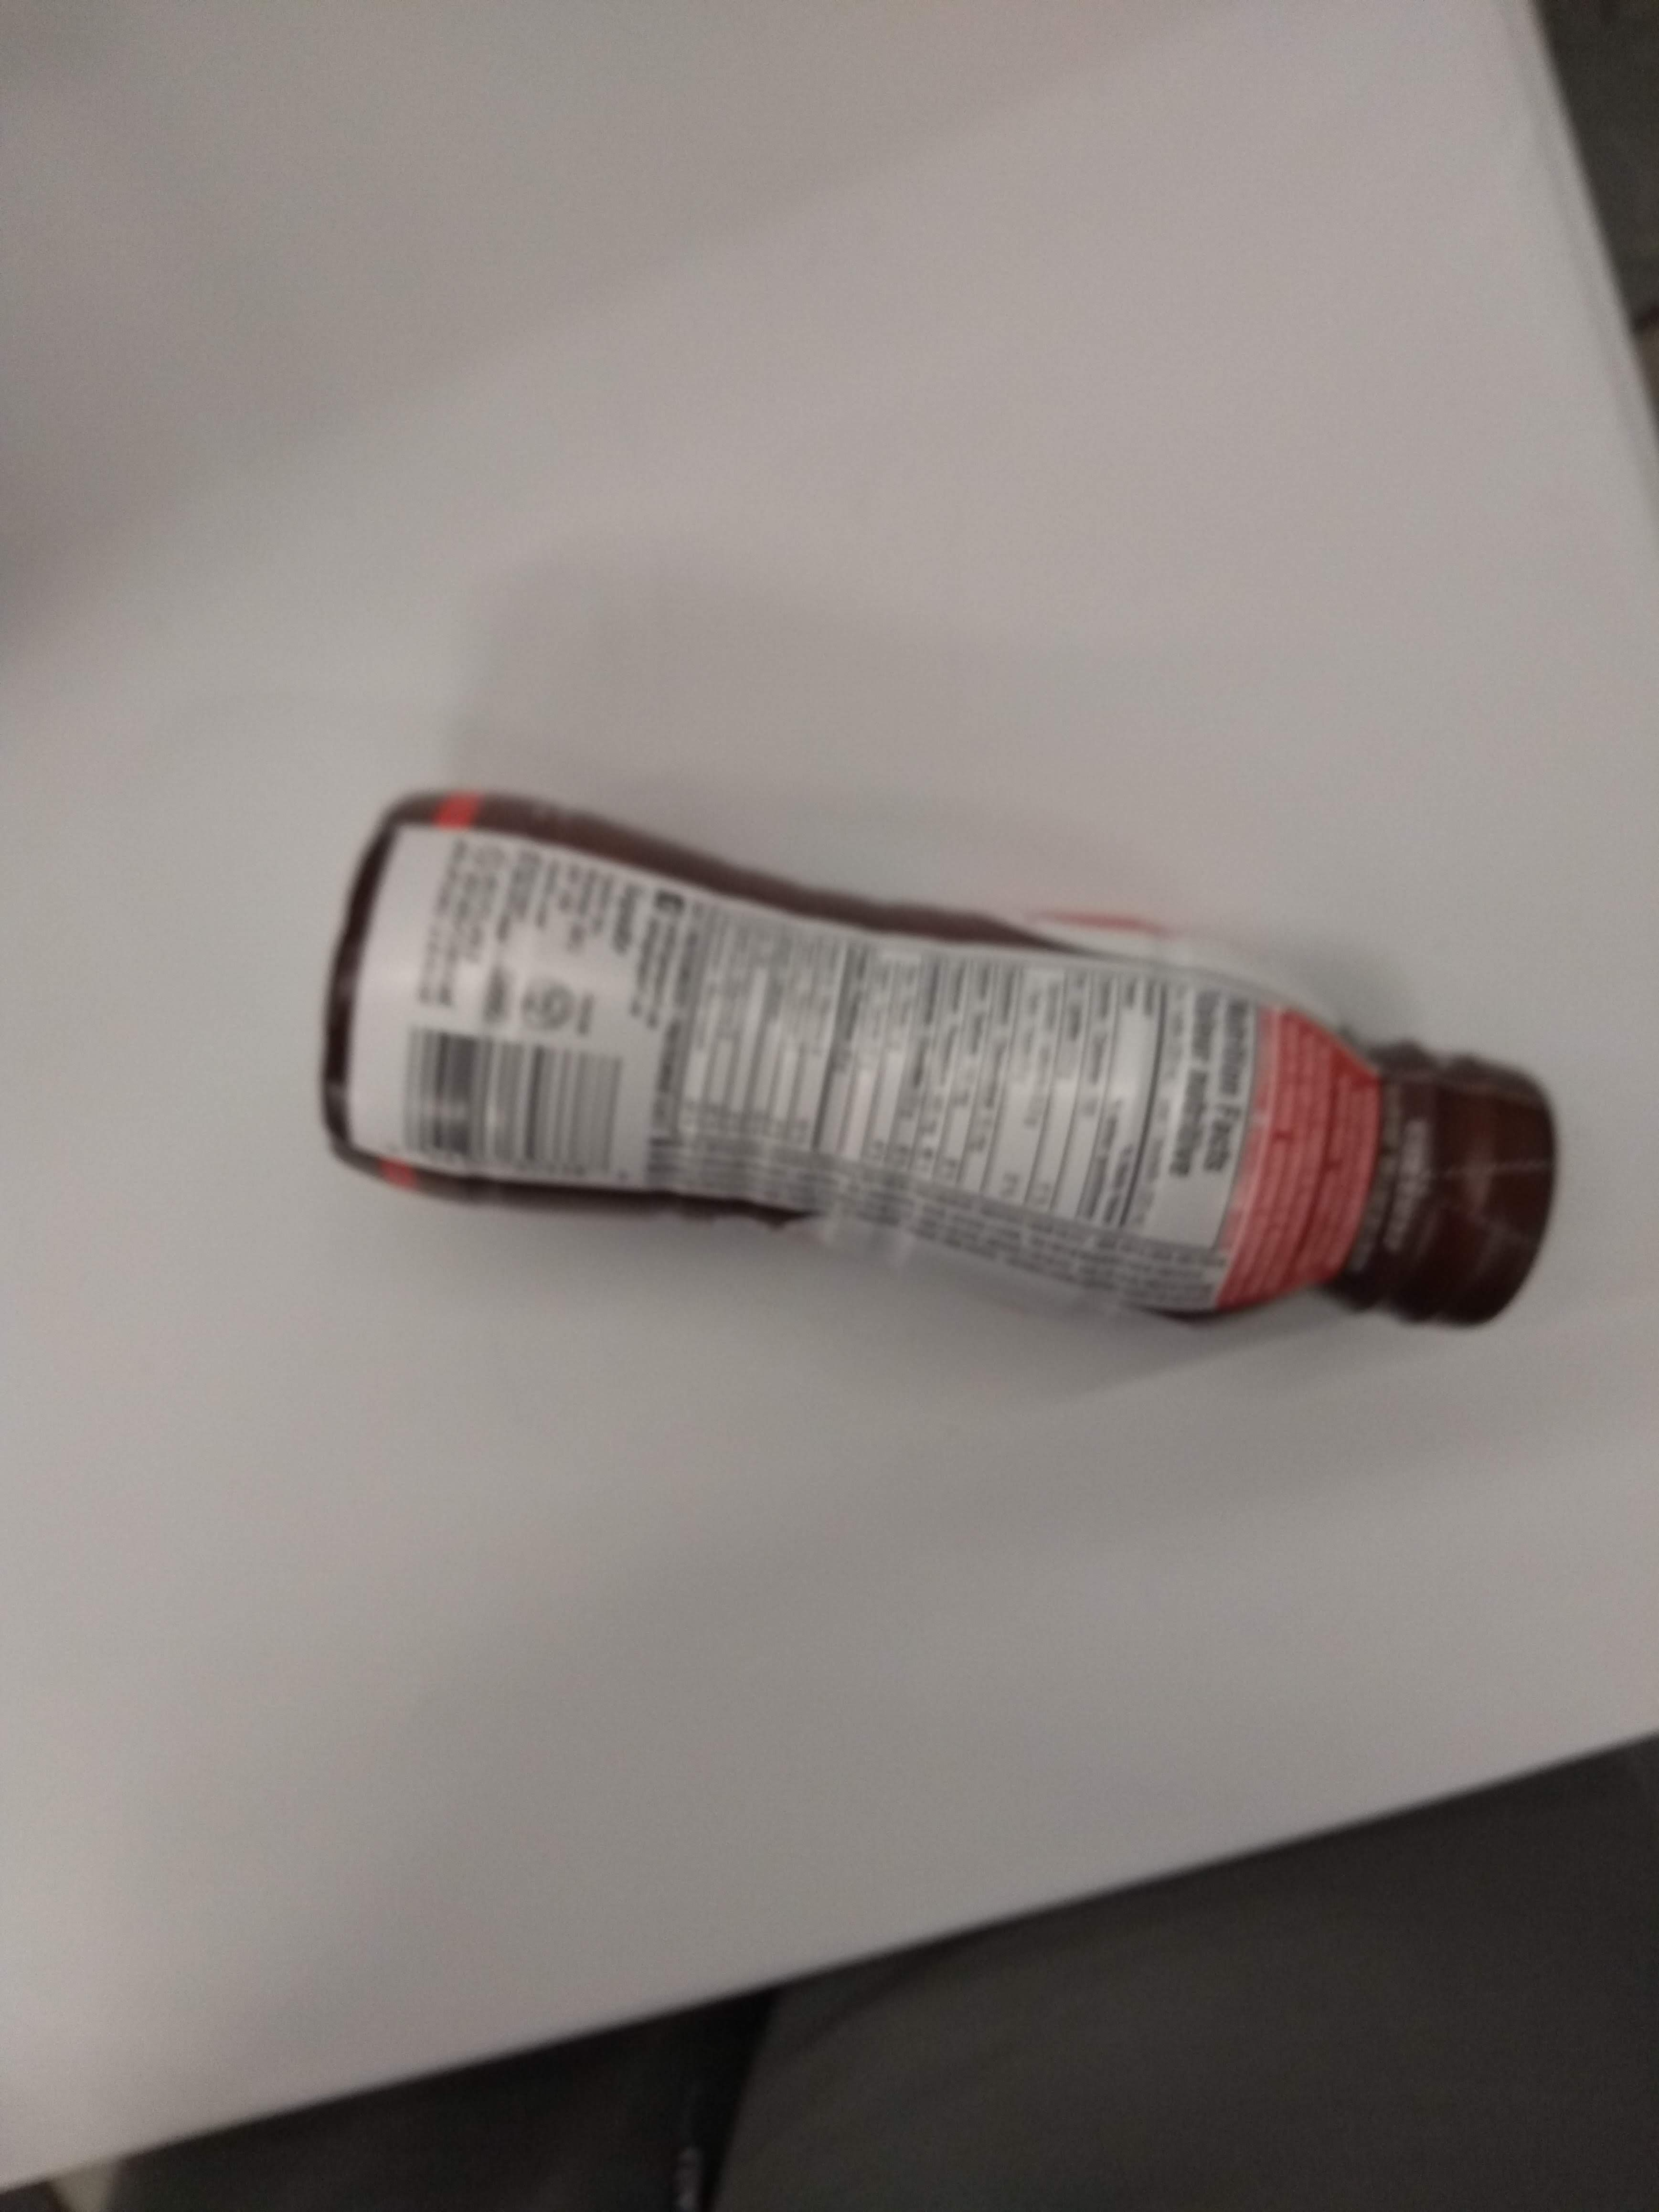chocolate_drink: (301, 763, 1572, 1364)
